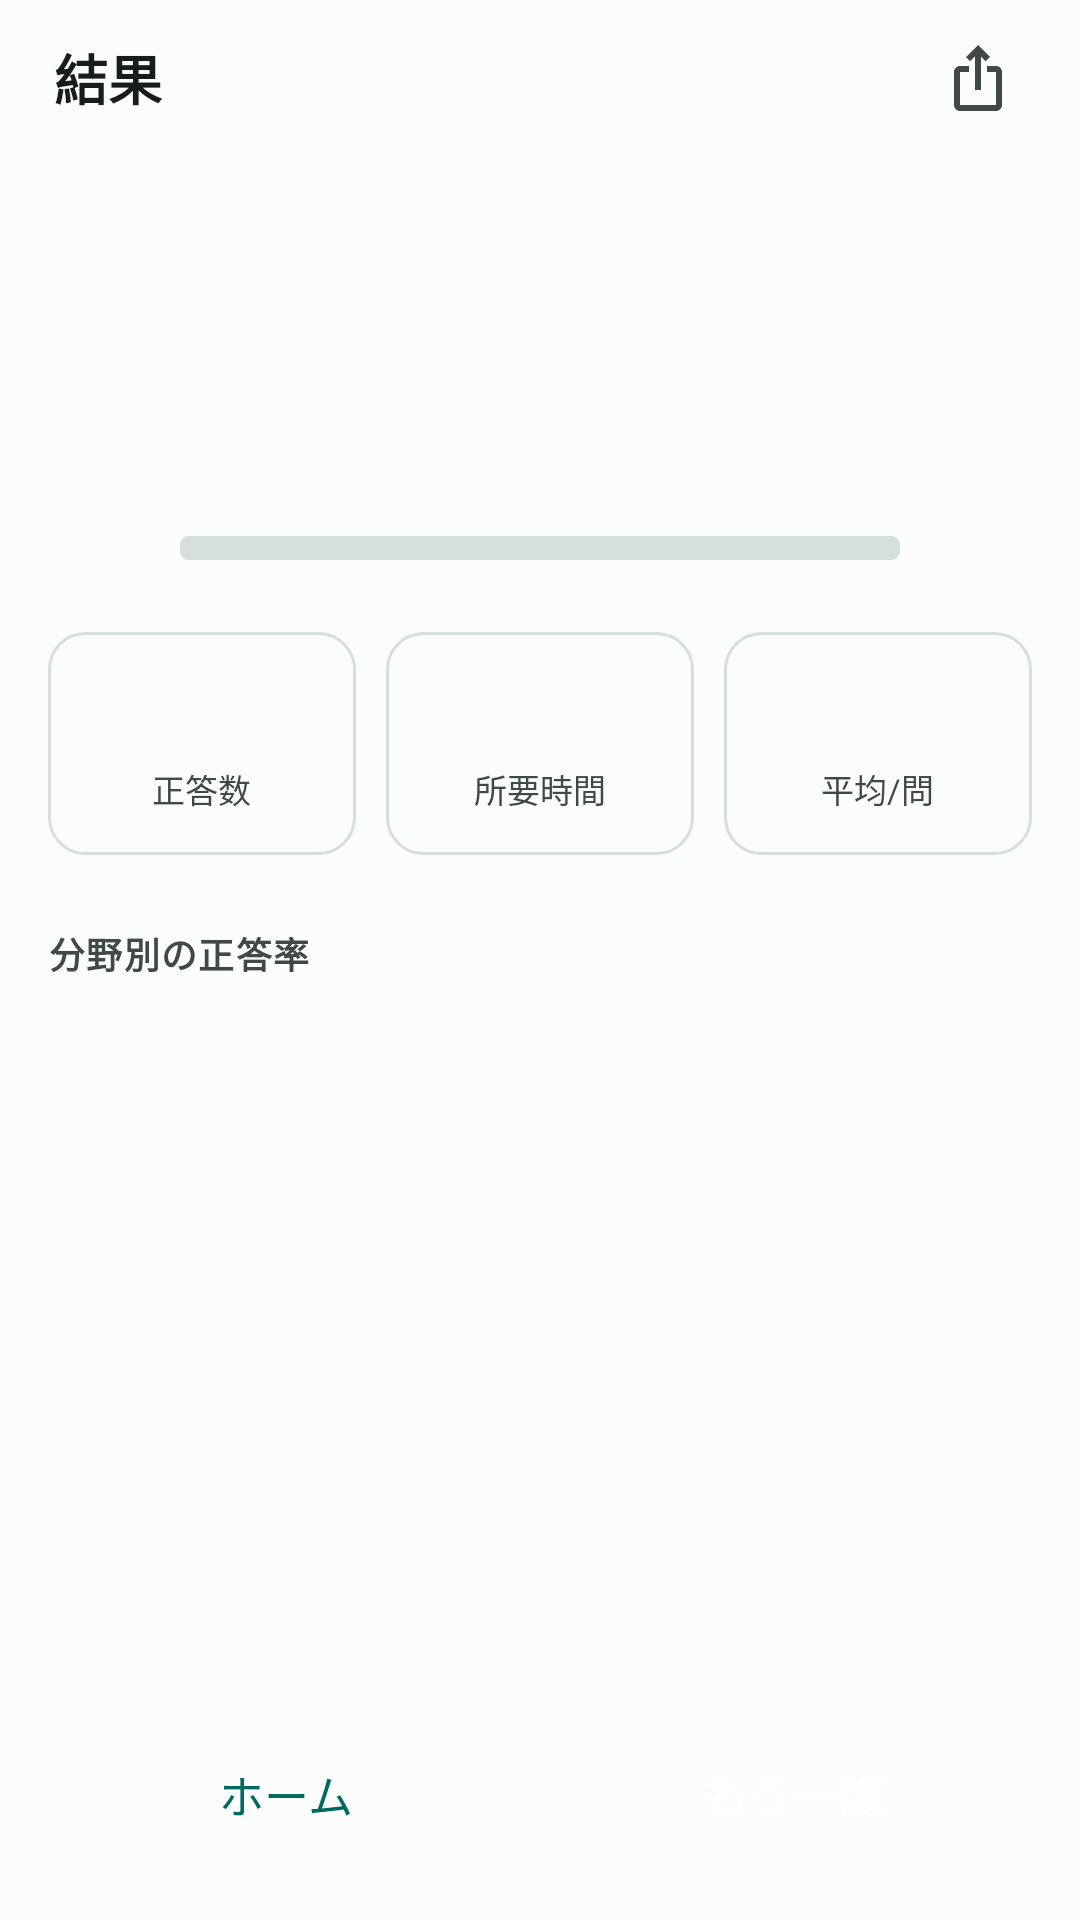

Point at icon controls on the screen. Image size 1080 × 1920, points as [x,y].
共有: [978,78]
